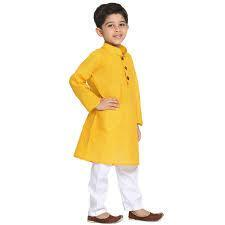Human: (68, 1, 174, 225)
